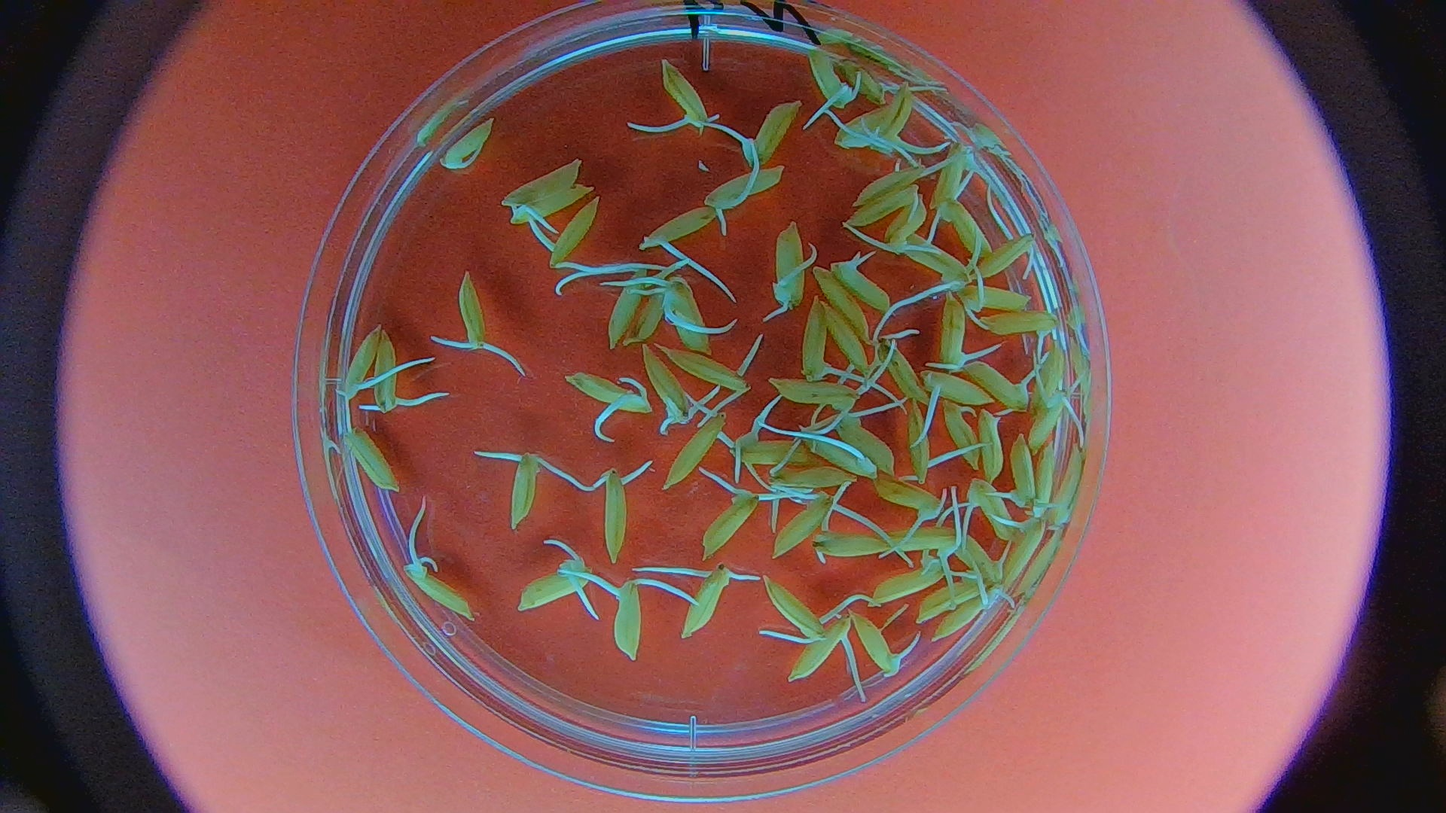no: (663, 409, 731, 486), (340, 423, 402, 499), (811, 266, 871, 344)
yes: (948, 516, 1011, 598), (636, 344, 694, 422), (679, 563, 735, 641), (758, 577, 823, 644), (788, 617, 853, 683), (516, 556, 594, 611), (563, 370, 649, 419), (505, 155, 583, 209), (819, 299, 874, 375), (700, 488, 761, 556), (400, 562, 469, 621), (840, 184, 923, 233), (664, 346, 752, 392), (929, 196, 991, 261), (548, 199, 603, 271), (903, 230, 969, 290), (839, 409, 898, 475), (871, 550, 944, 603), (773, 492, 834, 555), (657, 59, 713, 127), (853, 162, 933, 209), (639, 204, 717, 252), (666, 276, 715, 352), (829, 251, 891, 311), (604, 263, 649, 345), (594, 463, 630, 565), (880, 336, 932, 406), (999, 514, 1047, 588), (767, 376, 863, 413), (505, 185, 594, 224), (972, 233, 1039, 284), (963, 361, 1030, 412), (962, 479, 1014, 544), (871, 196, 929, 254), (879, 81, 923, 156), (806, 434, 879, 479), (811, 524, 893, 564), (772, 219, 808, 310), (856, 613, 906, 678), (911, 570, 979, 617), (831, 104, 897, 152), (703, 164, 782, 204), (340, 324, 380, 403), (872, 476, 945, 519), (439, 116, 496, 171), (933, 586, 999, 633), (803, 294, 837, 382), (881, 520, 964, 556), (802, 45, 849, 107), (504, 449, 539, 532), (938, 290, 973, 372), (1030, 334, 1063, 417), (743, 103, 791, 160), (941, 401, 980, 471), (838, 58, 895, 105), (923, 370, 997, 406), (906, 399, 937, 482), (1029, 391, 1072, 450), (772, 465, 856, 495), (957, 287, 1031, 321), (980, 313, 1058, 345), (625, 283, 664, 347), (610, 580, 642, 658), (735, 438, 818, 467), (373, 330, 402, 413), (461, 272, 490, 352), (975, 410, 1006, 484), (933, 145, 966, 211), (1005, 437, 1036, 507), (1033, 443, 1054, 518)
